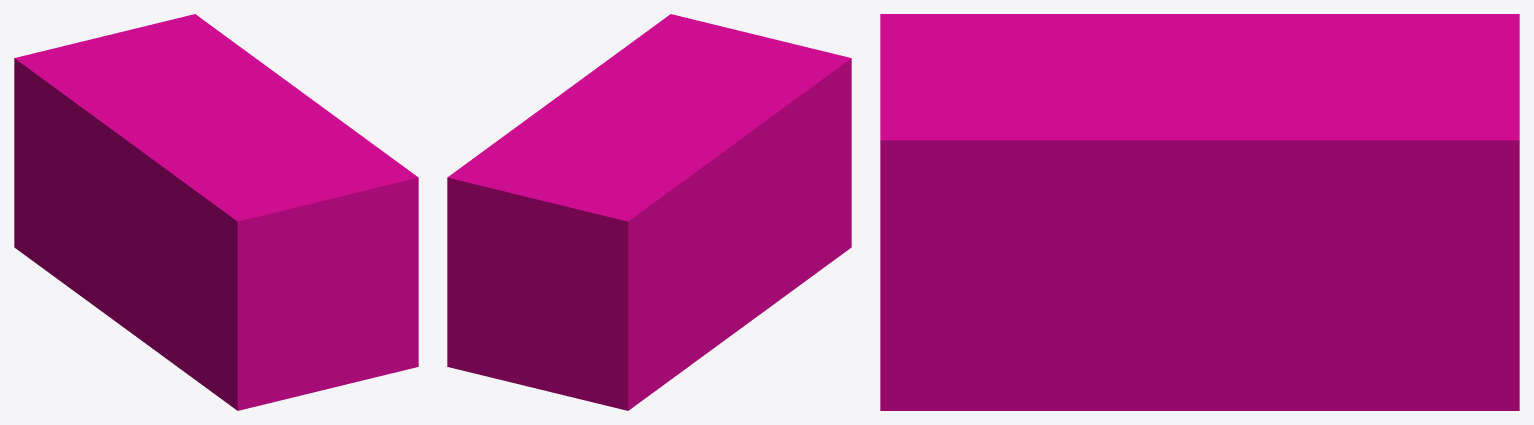
3 views of the same model, side by side, from view 1: azimuth 30°, elevation 25°; view 2: azimuth 150°, elevation 25°; view 3: azimuth 270°, elevation 25° (orthographic). The views are drawn at different scales.
Parts seen in each view (by area): view 1: RP0.0; view 2: RP0.0; view 3: RP0.0.
Boxes of the visible parts, <box> form: RP0.0: <box>14,14,418,410</box>; RP0.0: <box>447,14,851,410</box>; RP0.0: <box>880,14,1519,410</box>.
Bounding box in the file's own units: 1 × 1 × 2.14.
